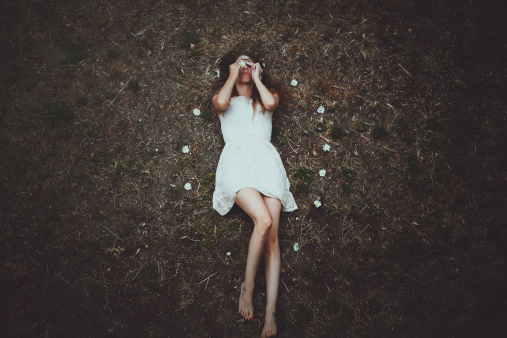deitado: (196, 40, 294, 338)
